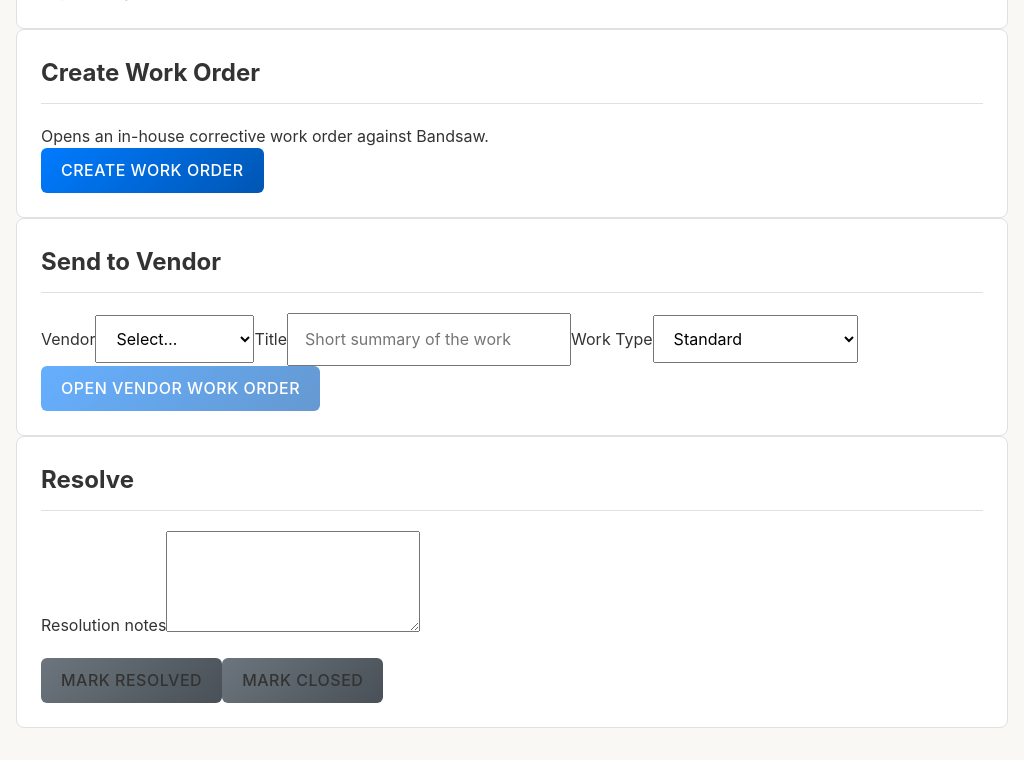
it: AssetProblemDetailPage promote/resolve (op-ybpn) › resolve patches the problem from the response and disables both actions in flight
This screenshot has width=1024, height=760.
(page scrolled)
Type "Tightened the guide" into the text box labelled "Resolution notes".
click(293, 582); type("Tightened the guide")  # box [166,531,420,632]
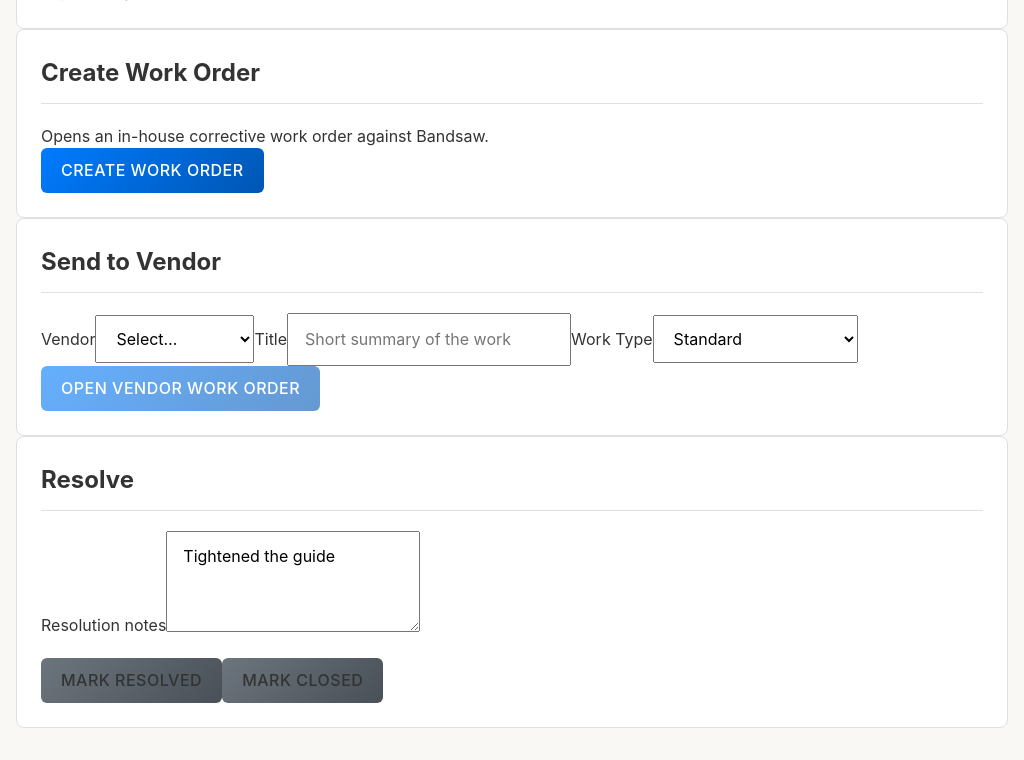
Click the button "Mark Resolved".
click(132, 681)  # box [41,658,222,703]
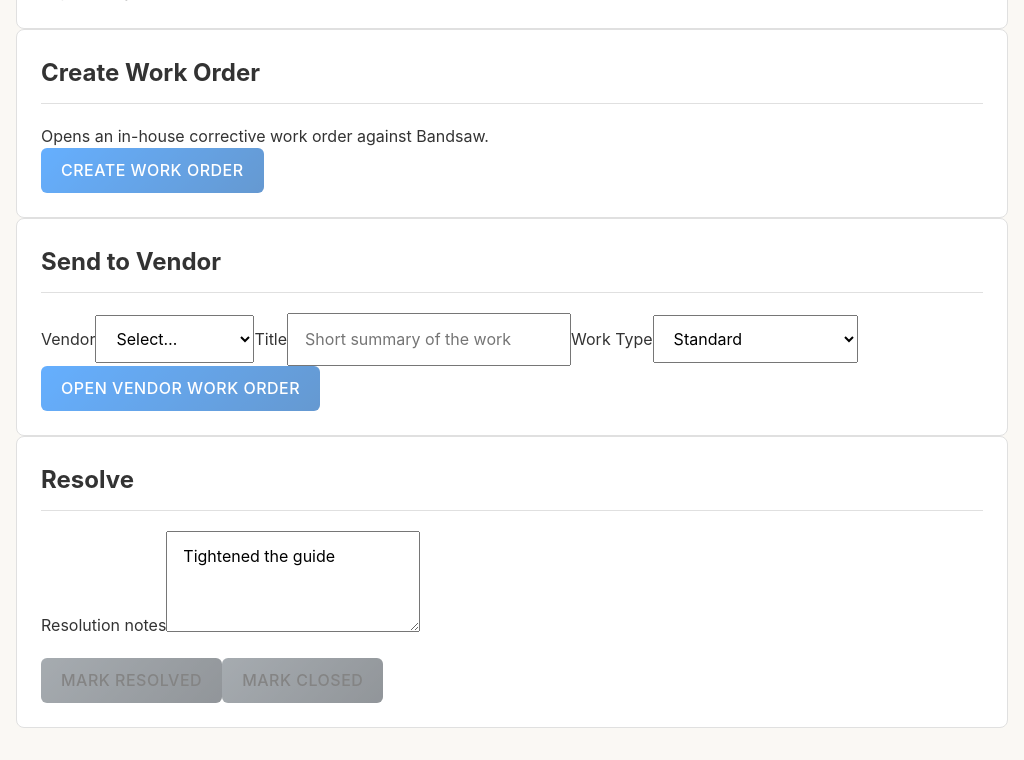
Expected: the button "Mark Resolved" is disabled
Expected: the button "Mark Closed" is disabled, [222,658,383,703]
Duplicate clicks while pending are ignored.
Click the button "Mark Resolved".
click(132, 681)  # box [41,658,222,703]
(page scrolled)
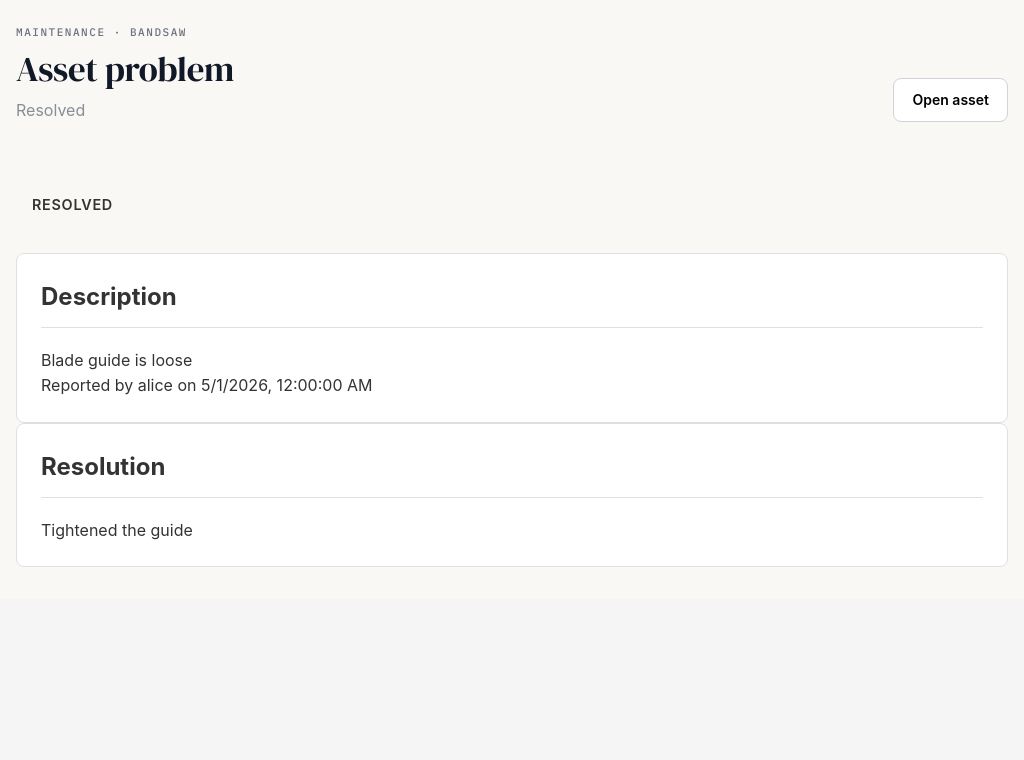
Expected: the button "Mark Resolved" is gone
Expected: the text "Tightened the guide" is shown, [41,520,193,540]
